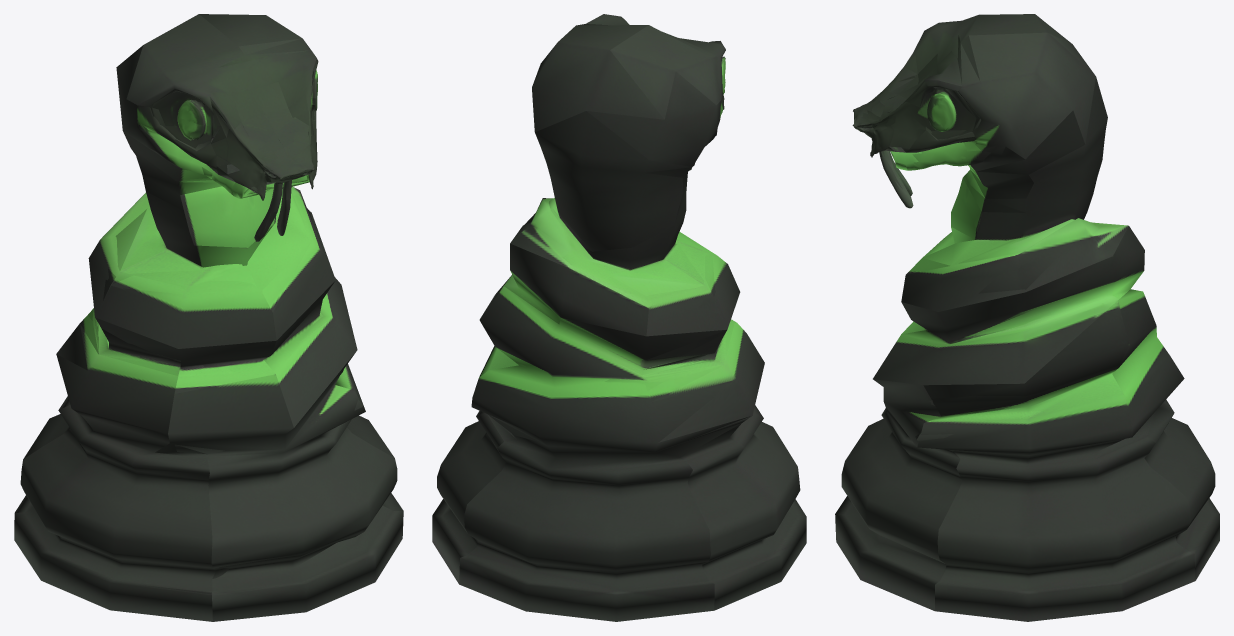
Rendered from Meshy_AI_Emerald_Coil_0726160127_texture.glb.
The picture shows the model from 3 angles, left to right: view 1: azimuth 30°, elevation 25°; view 2: azimuth 150°, elevation 25°; view 3: azimuth 270°, elevation 25°; orthographic projection. The views are drawn at different scales.
Visible parts, largest first — view 1: mesh_node; view 2: mesh_node; view 3: mesh_node.
Boxes of the visible parts, bbox=[...] form: mesh_node: bbox=[14, 14, 403, 621]; mesh_node: bbox=[432, 14, 806, 621]; mesh_node: bbox=[835, 14, 1219, 621].
Size of the model in its own units: 0.6758 by 0.9961 by 0.6816.
1 material, 1 textured.
